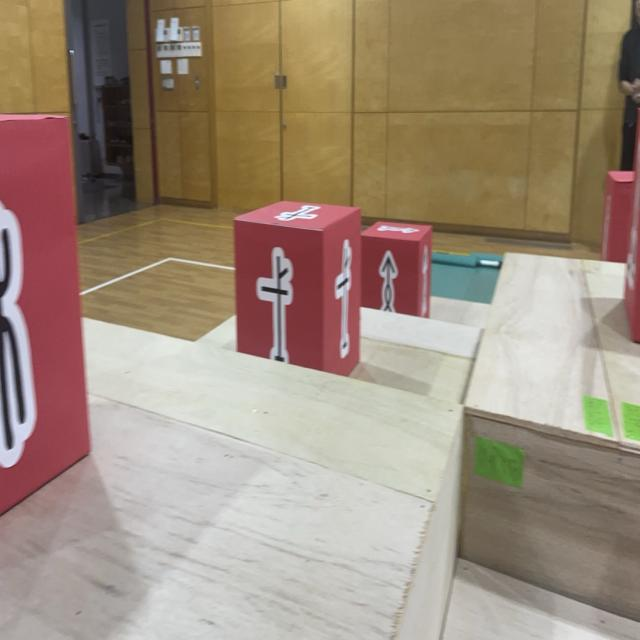12: (378, 250, 399, 313), (421, 244, 429, 317), (377, 223, 420, 236)
2: (0, 198, 39, 471)
9: (256, 245, 294, 365), (334, 237, 353, 361), (273, 204, 320, 223)
fighter: (0, 112, 92, 519), (234, 200, 360, 376), (360, 221, 432, 318), (624, 108, 640, 344), (602, 170, 636, 263)
